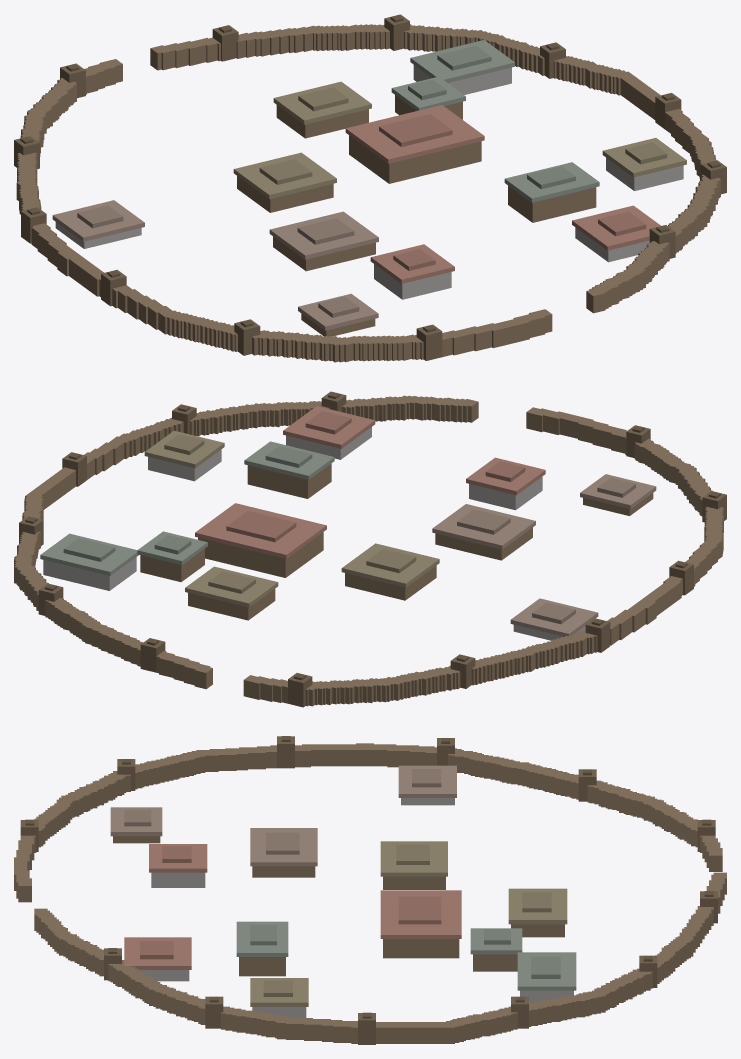
File: ciudad_aldea_agricola_480_2417_01.glb
The picture shows the model from 3 angles, top to bottom: view 1: azimuth 30°, elevation 25°; view 2: azimuth 150°, elevation 25°; view 3: azimuth 270°, elevation 25°; orthographic projection. The views are drawn at different scales.
Parts seen in each view (by area): view 1: ciudad_aldea_agricola_480_2417; view 2: ciudad_aldea_agricola_480_2417; view 3: ciudad_aldea_agricola_480_2417.
Boxes of the visible parts, box(x1,y1,x2,y2) form: ciudad_aldea_agricola_480_2417: box(14, 14, 726, 362); ciudad_aldea_agricola_480_2417: box(14, 391, 726, 707); ciudad_aldea_agricola_480_2417: box(14, 736, 726, 1044).
Bounding box in the file's own units: 75 × 3.5 × 79.25.
